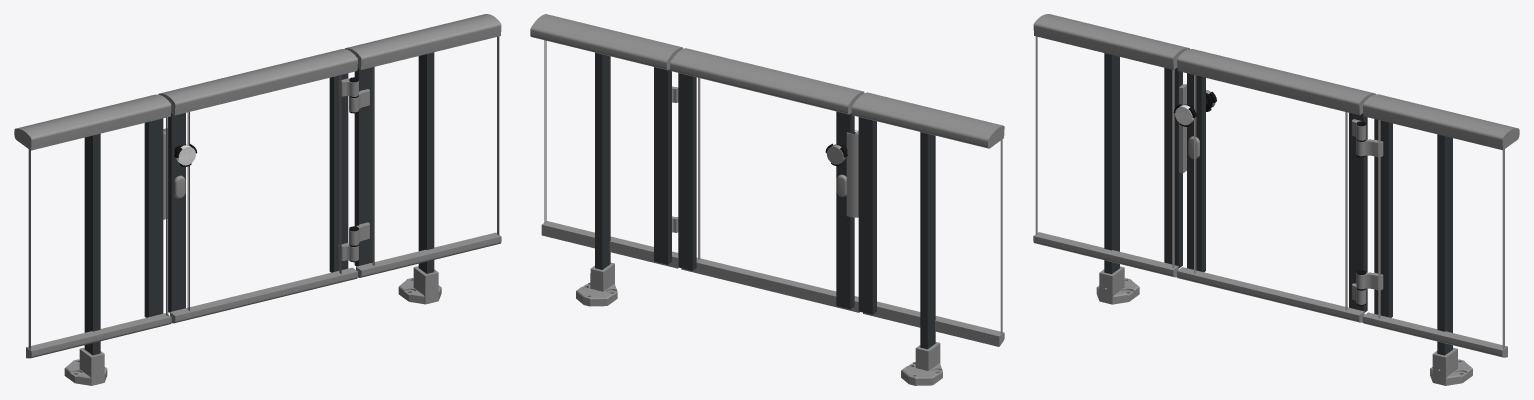
3 renders of one model, left to right at view 1: azimuth 30°, elevation 25°; view 2: azimuth 150°, elevation 25°; view 3: azimuth 330°, elevation 25°, orthographic. The views are drawn at different scales.
Visible parts, largest first — view 1: Line073, Line066, Box2070, Line075, Box2068, Box2069, Box2072, Box2073, Box2071, Line074, Line072, Line076 (+5 smaller); view 2: Line073, Line066, Line075, Box2070, Box2072, Box2073, Box2068, Box2069, Box2071, Line074, Line072, Line076 (+6 smaller); view 3: Line073, Line075, Line066, Box2069, Box2068, Box2073, Box2071, Box2070, Box2072, Line074, Line076, Line072 (+8 smaller).
Boxes of the visible parts, <box> form: Line073: <box>158,49,357,115</box>; Line066: <box>14,94,171,150</box>; Box2070: <box>144,118,163,317</box>; Line075: <box>345,14,501,69</box>; Box2068: <box>84,133,100,355</box>; Box2069: <box>418,52,434,273</box>; Box2072: <box>329,73,348,272</box>; Box2073: <box>354,67,373,266</box>; Box2071: <box>168,113,185,312</box>; Line074: <box>170,267,357,323</box>; Line072: <box>26,313,171,358</box>; Line076: <box>356,232,501,277</box>; Line073: <box>670,48,864,114</box>; Line066: <box>851,92,1004,148</box>; Line075: <box>530,14,683,70</box>; Box2070: <box>858,117,876,314</box>; Box2072: <box>678,73,696,270</box>; Box2073: <box>654,67,671,264</box>; Box2068: <box>920,132,935,349</box>; Box2069: <box>595,52,610,269</box>; Box2071: <box>836,111,854,309</box>; Line074: <box>681,257,859,312</box>; Line072: <box>863,301,1004,346</box>; Line076: <box>541,221,678,268</box>; Line073: <box>1177,49,1375,115</box>; Line075: <box>1363,94,1519,150</box>; Line066: <box>1033,14,1189,69</box>; Box2069: <box>1437,134,1452,355</box>; Box2068: <box>1104,53,1119,274</box>; Box2073: <box>1374,119,1392,317</box>; Box2071: <box>1187,73,1205,272</box>; Box2070: <box>1164,68,1182,268</box>; Box2072: <box>1349,113,1367,312</box>; Line074: <box>1177,267,1364,322</box>; Line076: <box>1362,312,1507,357</box>; Line072: <box>1033,232,1178,277</box>.
Bounding box in the file's own units: 1360 × 739 × 141.
Materials: 7 (4 with a texture image).
